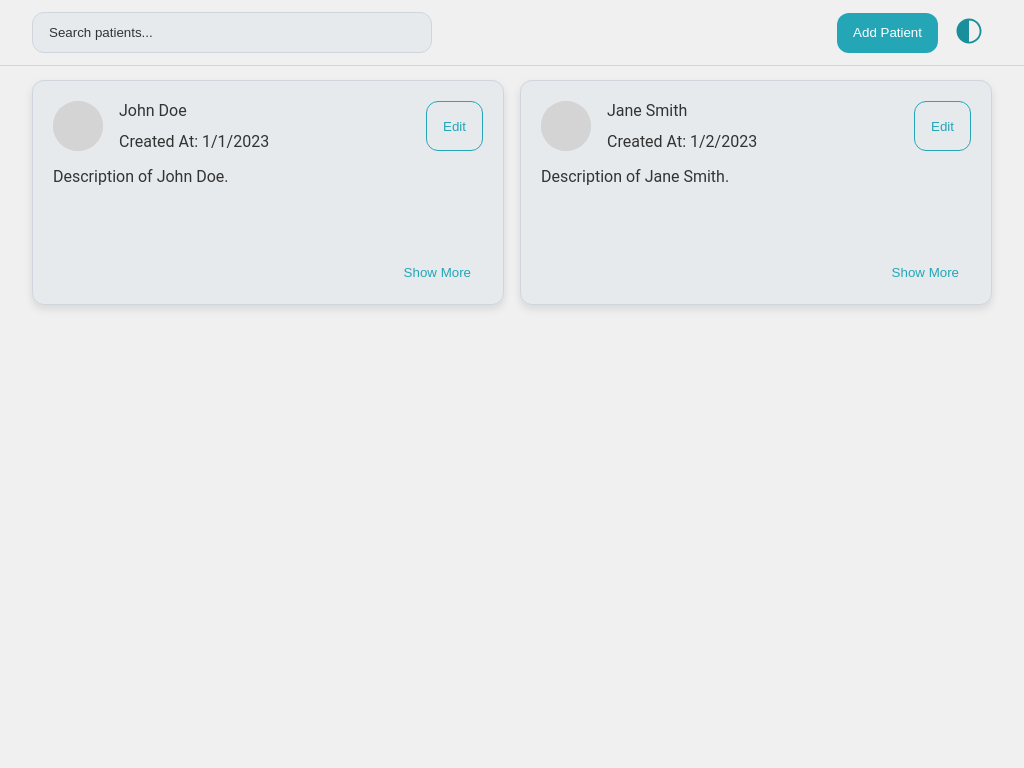
Scenario: Patient Management › should allow editing of existing patient data
The image size is (1024, 768).
Click the button "Edit" next to "1/1/2023".
click(455, 126)  # box left=426, top=101, right=483, bottom=151
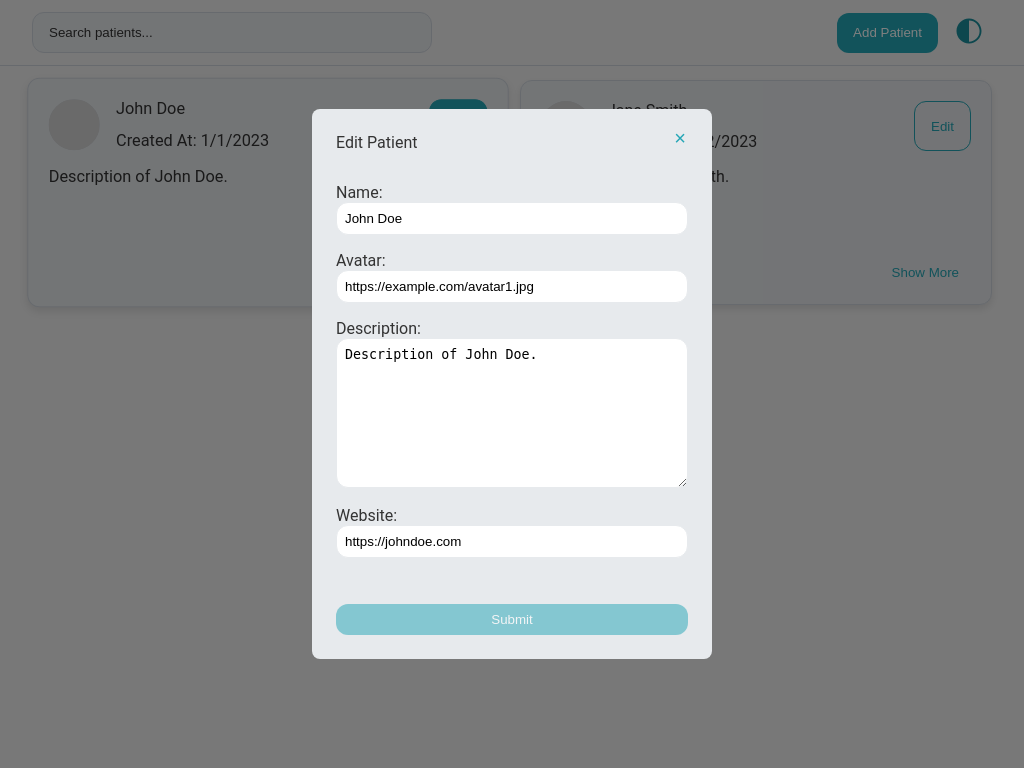
Replace the text in the field named "name" below "Name" with "Jane Doe" at (512, 219), box left=336, top=202, right=688, bottom=235
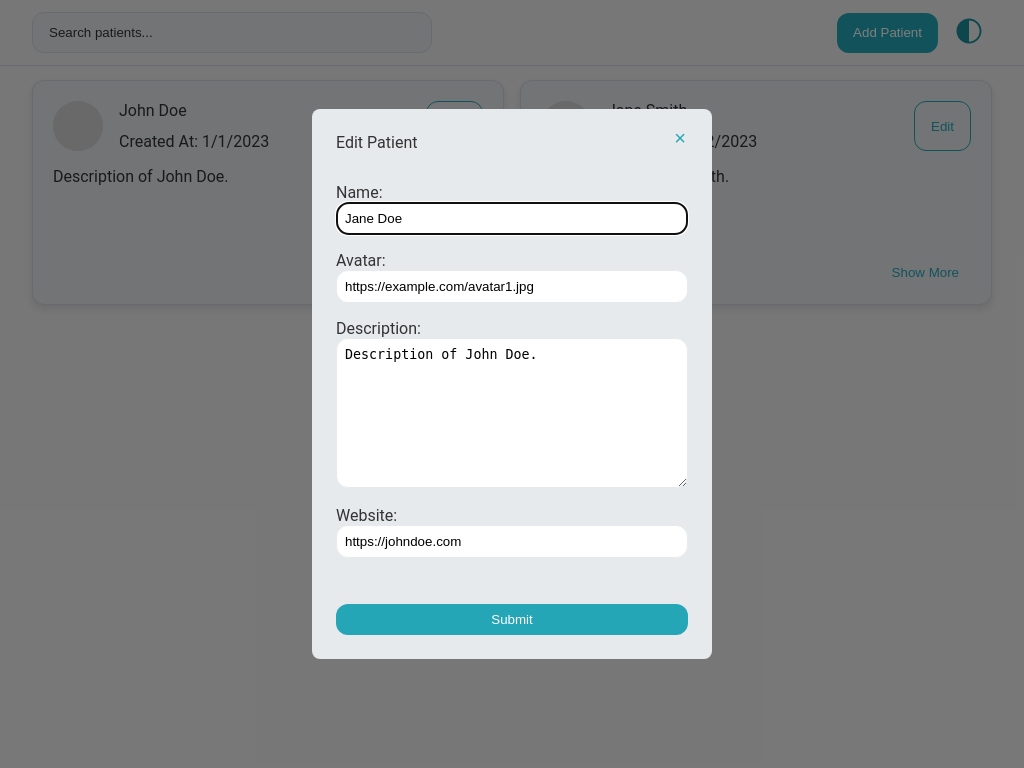
Click the submit button.
click(512, 620)  # box left=336, top=604, right=688, bottom=635
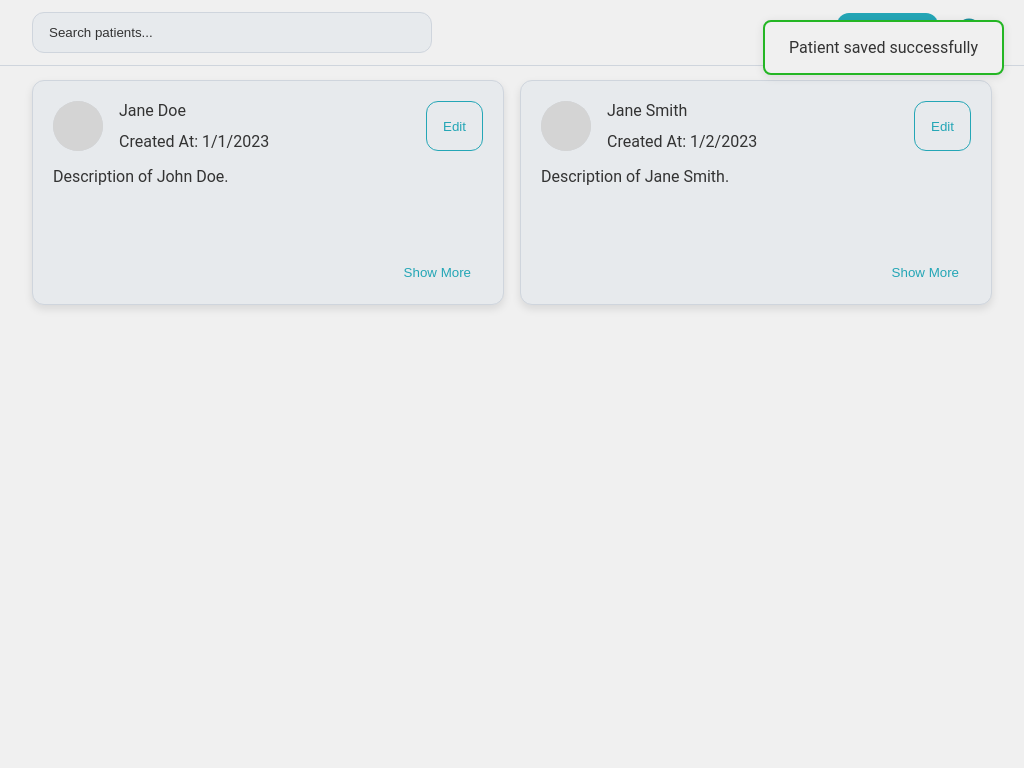
Check: the text "Jane Doe" is shown, box left=119, top=101, right=186, bottom=120
